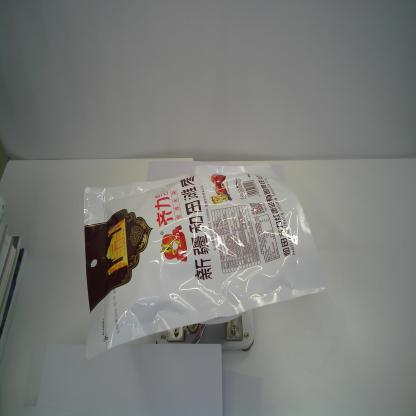Dried Food: (82, 161, 326, 360)
